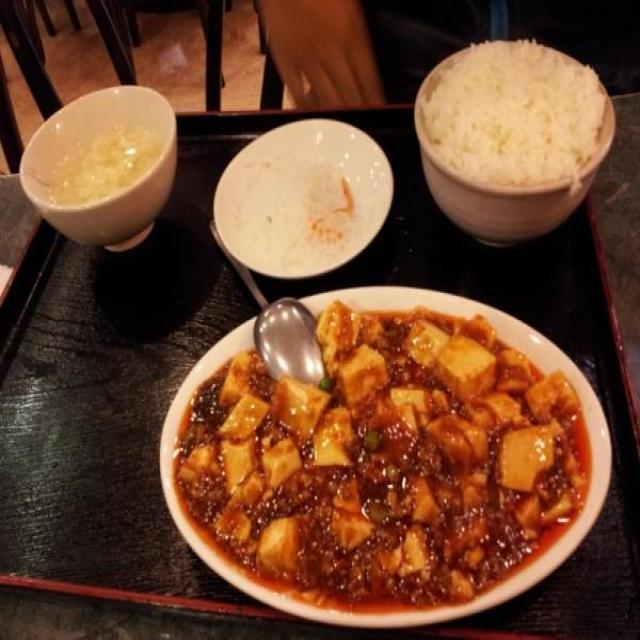Rice: (418, 31, 612, 193)
